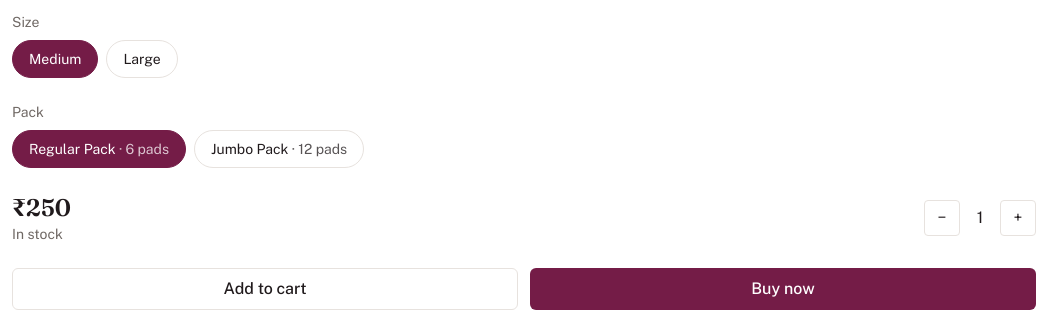
VariantSelector › snaps the other axis to a valid pairing when the current combo doesn't exist
Click the button "Large": {"x": 142, "y": 59} [106,40,178,78]
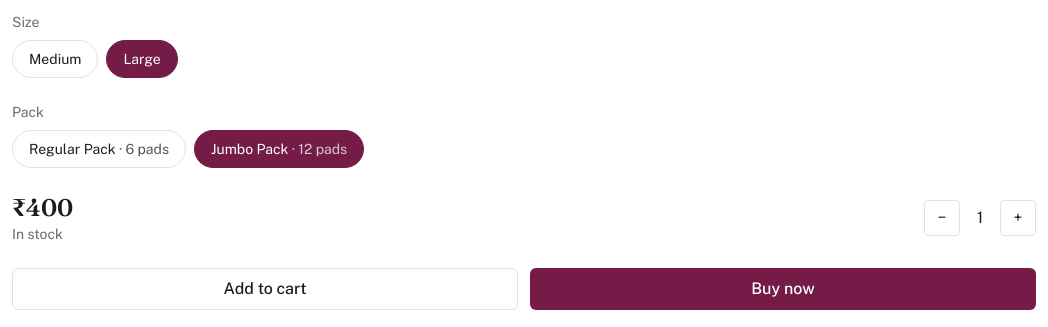
expect the text "₹400" is shown: met, box [12,192,73,224]
